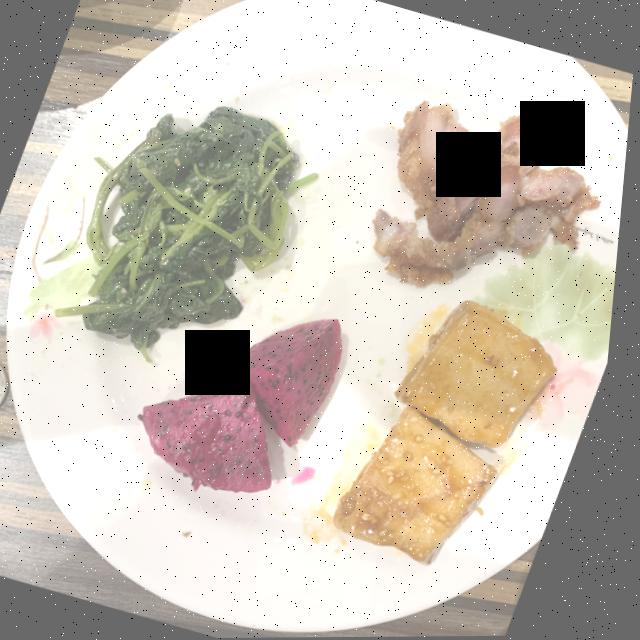coin: (0, 360, 13, 411)
creamy tofu: (342, 301, 562, 565)
red grilled pork: (377, 101, 603, 287)
sweet potato leaves: (80, 107, 299, 361)
